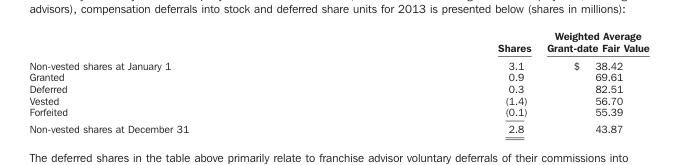table: (28, 28, 648, 134)
table column: (28, 28, 342, 134), (342, 28, 538, 134), (538, 28, 648, 134)
table column header: (28, 28, 648, 55)
table row: (28, 28, 648, 55), (28, 55, 648, 70), (28, 119, 648, 134), (28, 105, 648, 119), (28, 70, 648, 82), (28, 93, 648, 105), (28, 82, 648, 93)
